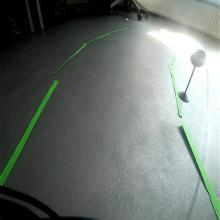left: (190, 48, 207, 68)
